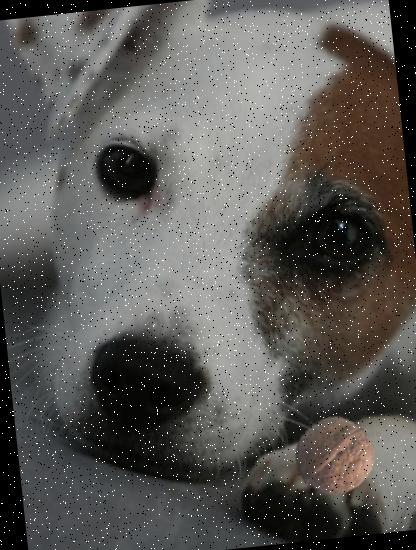Walnut: (292, 412, 378, 500)
